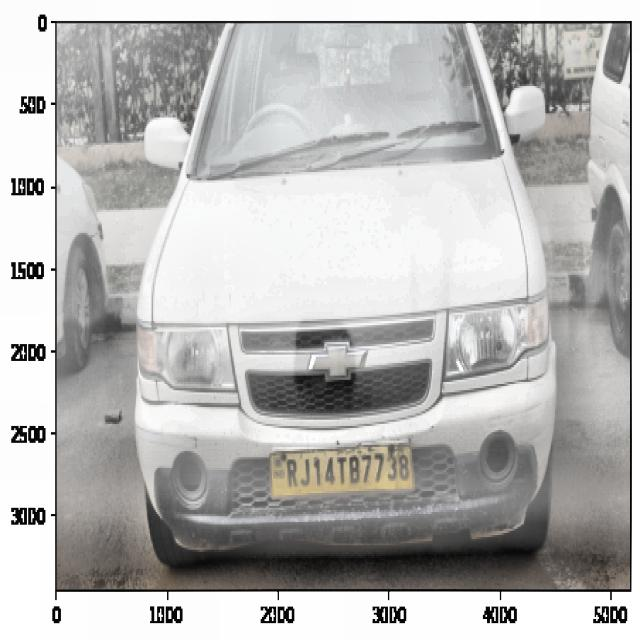license_plate: (279, 450, 415, 492)
